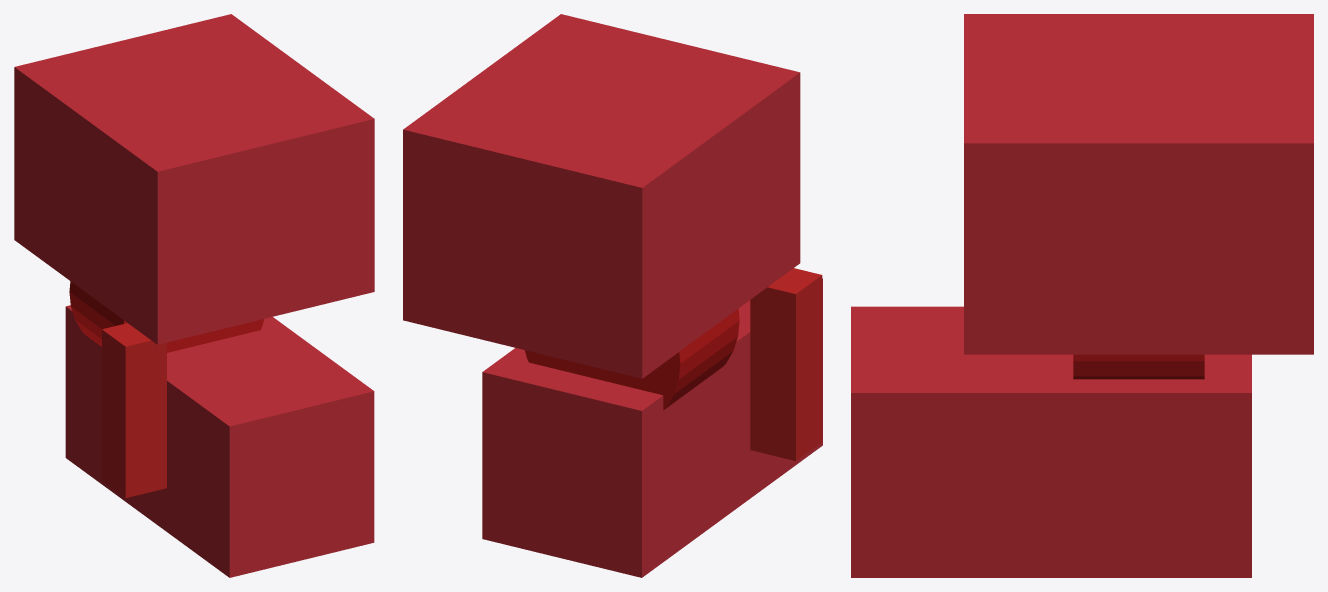
The model's file is arm_left_002_valkyrion.obj.
3 renders of one model, left to right at view 1: azimuth 30°, elevation 25°; view 2: azimuth 150°, elevation 25°; view 3: azimuth 270°, elevation 25°, orthographic. The views are drawn at different scales.
Bounding box in the file's own units: 0.47 × 0.7 × 0.635.
